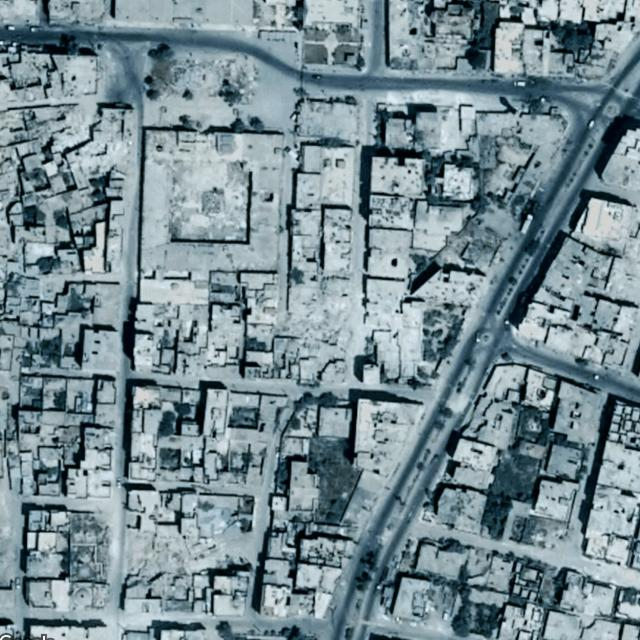damaged_building: (51, 105, 130, 186), (123, 527, 207, 600), (275, 274, 352, 350)
